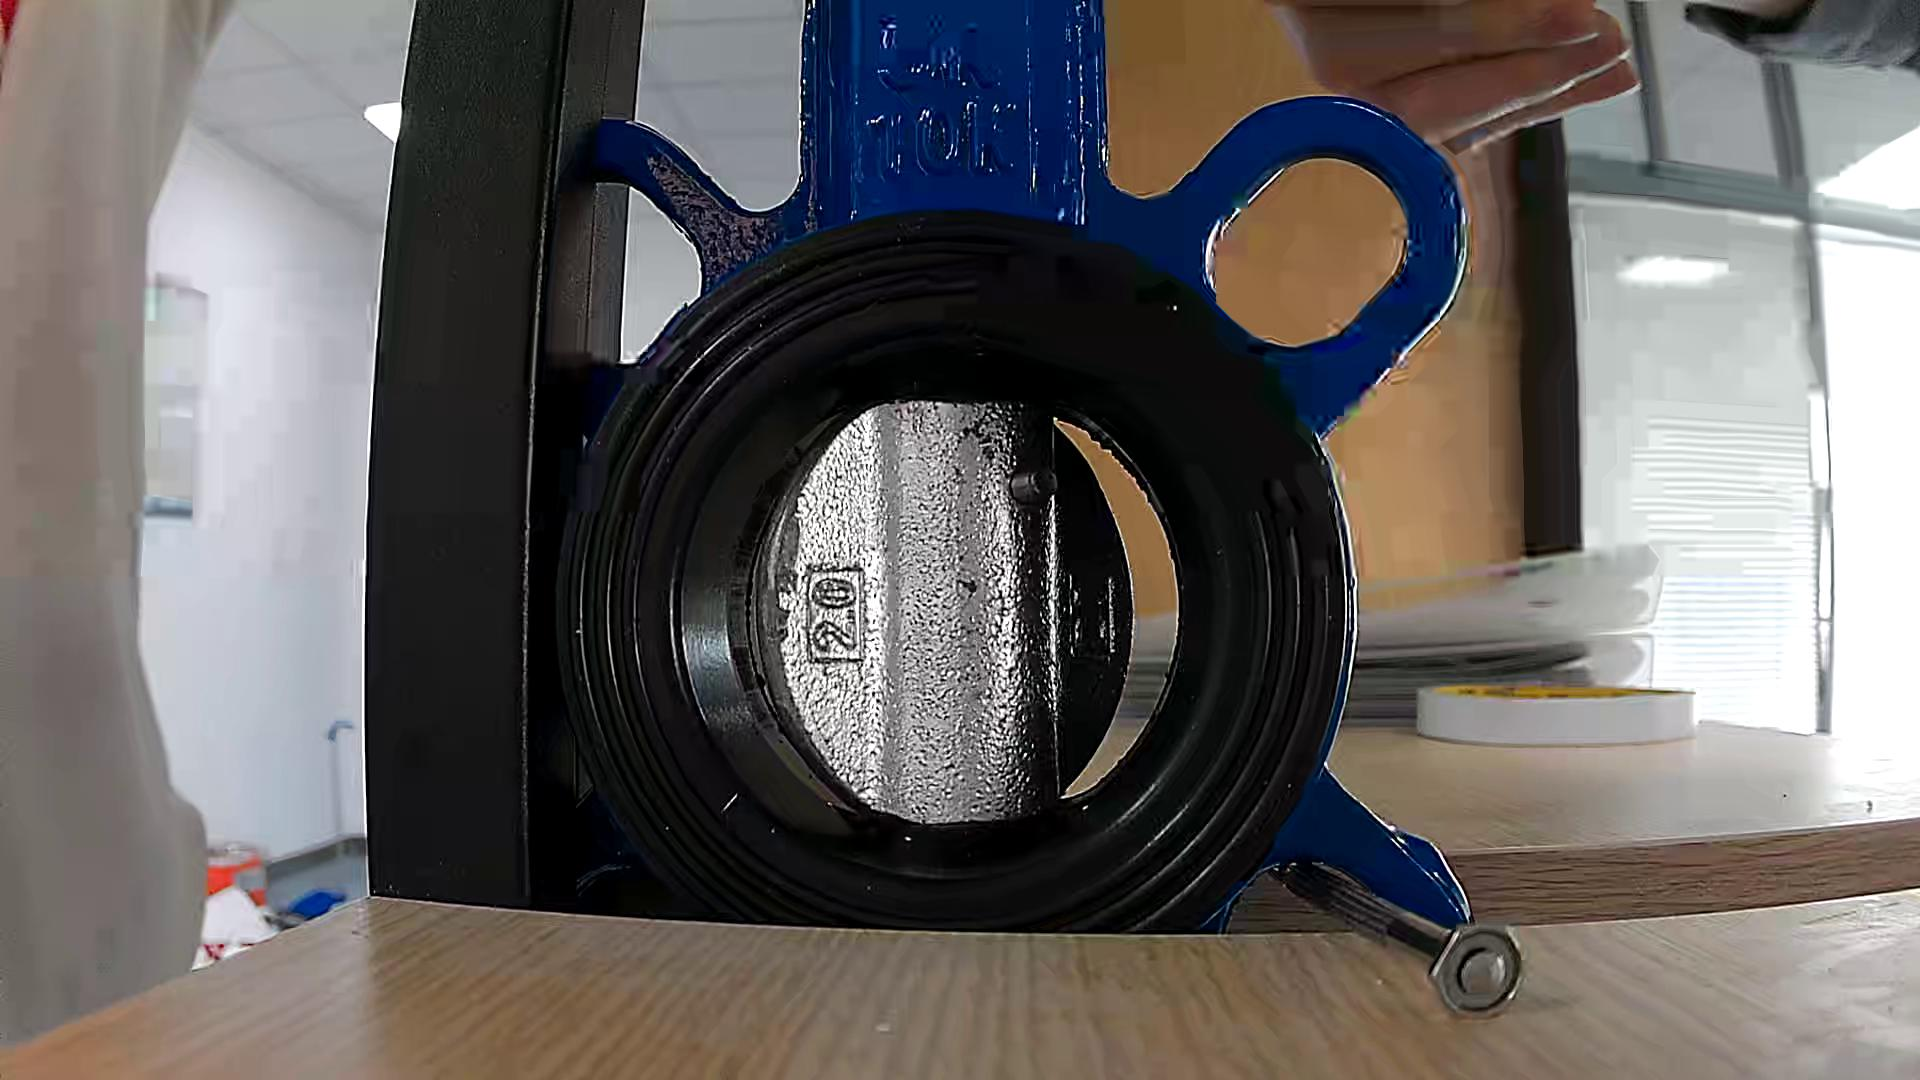valve: (762, 401, 1133, 825)
